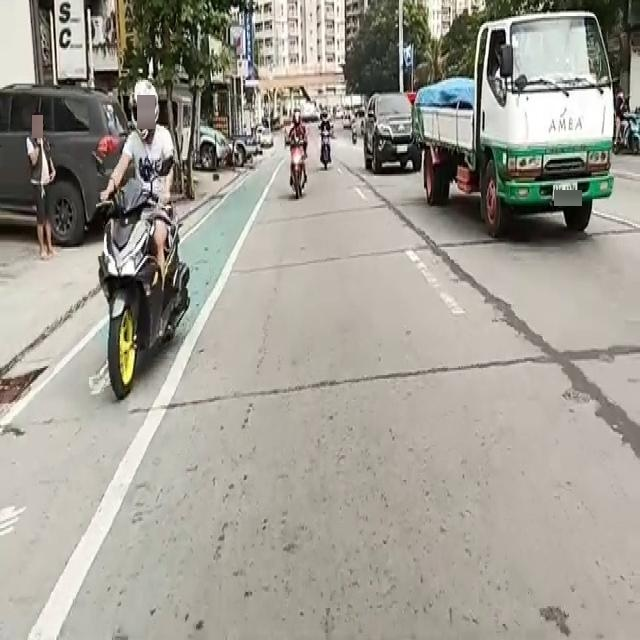car: (5, 79, 119, 245), (364, 102, 424, 176)
motorcycle: (93, 99, 195, 385), (285, 111, 307, 205), (318, 110, 336, 177)
truck: (402, 9, 626, 246)
